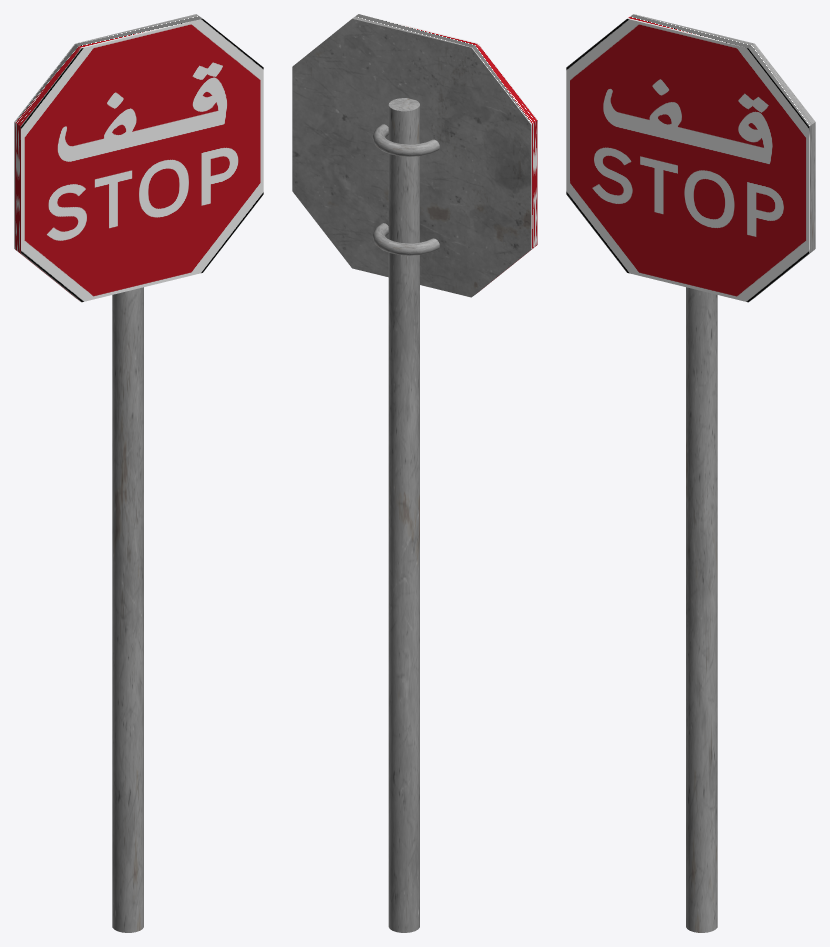
The model's file is STOP BOARD.fbx.
3 views of the same model, side by side, from view 1: azimuth 30°, elevation 25°; view 2: azimuth 150°, elevation 25°; view 3: azimuth 330°, elevation 25° (orthographic).
Visible parts, largest first — view 1: STOP_PLATE, SUPPORT; view 2: STOP_PLATE, SUPPORT; view 3: STOP_PLATE, SUPPORT.
Part boxes in pixels (left/top/right/bottom): STOP_PLATE: left=14, top=14, right=263, bottom=302; SUPPORT: left=112, top=287, right=143, bottom=932; STOP_PLATE: left=292, top=14, right=537, bottom=297; SUPPORT: left=372, top=98, right=439, bottom=932; STOP_PLATE: left=566, top=14, right=815, bottom=302; SUPPORT: left=686, top=287, right=717, bottom=932.
Size of the model in its own units: 1 by 3.55 by 0.1976.
2 materials, 2 textured.
